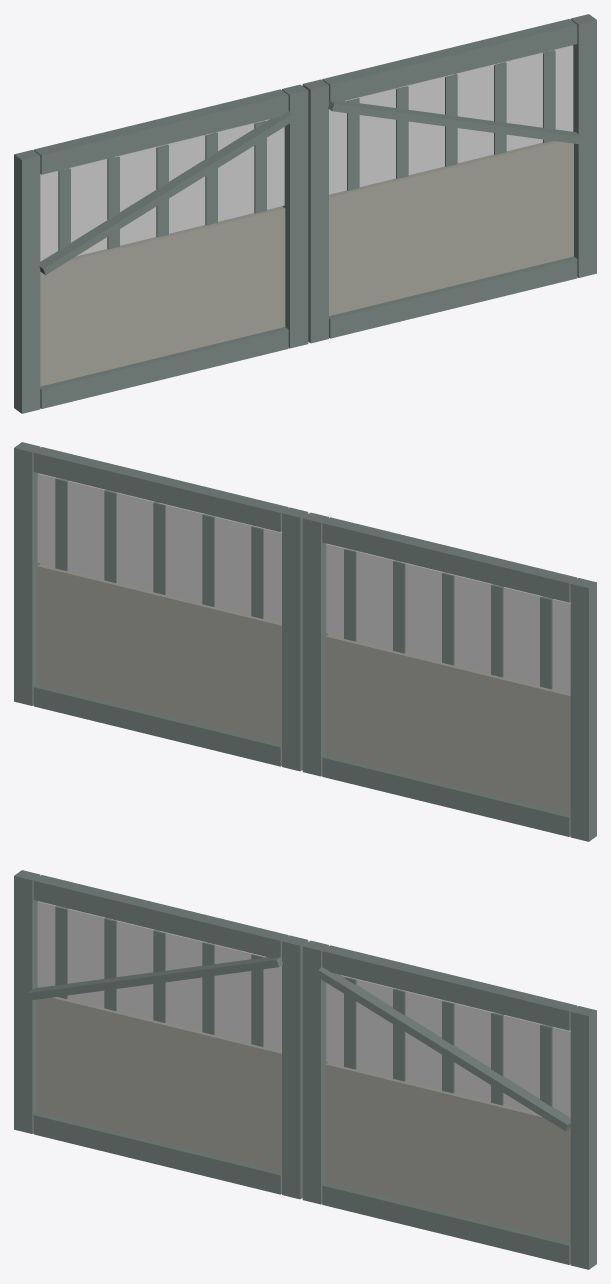
Rendered from SM_PuertaVia_v0_TuboChapa_e0_Sano_LOD1.fbx.
3 views of the same model, one above another, from view 1: azimuth 30°, elevation 25°; view 2: azimuth 150°, elevation 25°; view 3: azimuth 330°, elevation 25° (orthographic).
Visible parts, largest first — view 1: Hoja_O, Hoja_E; view 2: Hoja_O, Hoja_E; view 3: Hoja_E, Hoja_O.
Boxes of the visible parts, x1,y1,x2,y2 form: Hoja_O: (14,84,308,413); Hoja_E: (302,14,596,343); Hoja_O: (302,512,596,841); Hoja_E: (14,442,308,771); Hoja_E: (302,940,596,1269); Hoja_O: (14,870,308,1199).
Size of what is drawn, in the model's own units: 4.98 by 2.1 by 0.18.
